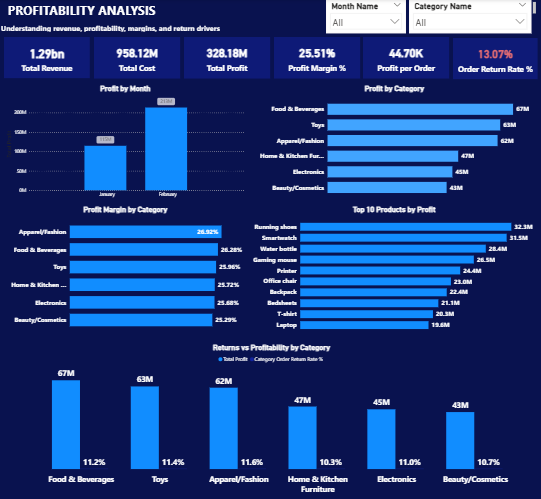

What the dashboard file says about the page in this screenshot:
{"tool":"powerbi","page":{"name":"Profitability Analysis","canvas":[1410,1300],"ordinal":1},"visuals":[{"type":"textbox","box":[0,1.3,1400.6,57.7],"z":0},{"type":"textbox","box":[0,56.6,1500,32.7],"z":1000},{"type":"card","fields":{"Values":["Measures (2).Total Revenue"]},"box":[12.9,100,222.9,107.1],"z":2000},{"type":"card","fields":{"Values":["Measures (2).Total Cost"]},"box":[246.2,100,223.8,107.5],"z":3000},{"type":"card","fields":{"Values":["Measures (2).Total Profit"]},"box":[480,100,223.8,107.5],"z":4000},{"type":"card","fields":{"Values":["Measures (2).Profit Margin%"]},"box":[713.8,100,223.8,107.5],"z":5000},{"type":"card","fields":{"Values":["Measures (2).Profit per Order"]},"box":[947.5,100,223.8,107.5],"z":6000},{"type":"card","fields":{"Values":["Measures (2).Return Rate"]},"box":[1180.6,100.6,220,107.3],"z":7000},{"type":"lineClusteredColumnComboChart","title":"Profit by Month","fields":{"Category":["DimDate.Month Name"],"Y":["Measures (2).Total Profit"]},"box":[13.8,220,631.2,306.2],"z":8000},{"type":"clusteredBarChart","title":"Profit by Category","fields":{"Category":["DimCategory.category_name"],"Y":["Measures (2).Total Profit"]},"box":[654.7,220,745.9,305.9],"z":9000},{"type":"clusteredBarChart","title":"Profit Margin by Category","fields":{"Category":["DimCategory.category_name"],"Y":["Measures (2).Profit Margin%"]},"box":[14.3,535.7,631.4,340],"z":10000},{"type":"clusteredBarChart","title":"Top 10 Products by Profit","fields":{"Category":["DimProduct.product_name"],"Y":["Measures (2).Total Profit"]},"box":[656,536.6,744.6,339.4],"z":11000},{"type":"slicer","fields":{"Values":["DimDate.Month Name"]},"box":[850.6,0,207.9,88.5],"z":12000},{"type":"slicer","fields":{"Values":["DimCategory.category_name"]},"box":[1065.2,0,318,88.5],"z":13000},{"type":"clusteredColumnChart","title":"Returns vs Profitability by Category","fields":{"Category":["DimCategory.category_name"],"Y":["Measures (2).Total Profit","Measures (2).Category Order Return Rate %"]},"box":[14.8,893.5,1385.9,401.1],"z":14000}]}

Visuals, with their boxes in screenshot pixels (x1, y1, x2, y2), scaled from the page's 1410x1300 canvas onto the 541x499 screenshot:
textbox: bbox(0, 0, 537, 23)
textbox: bbox(0, 22, 540, 34)
card - Measures (2).Total Revenue: bbox(5, 38, 90, 79)
card - Measures (2).Total Cost: bbox(94, 38, 180, 80)
card - Measures (2).Total Profit: bbox(184, 38, 270, 80)
card - Measures (2).Profit Margin%: bbox(274, 38, 360, 80)
card - Measures (2).Profit per Order: bbox(364, 38, 449, 80)
card - Measures (2).Return Rate: bbox(453, 39, 537, 80)
"Profit by Month" lineClusteredColumnComboChart: bbox(5, 84, 247, 202)
"Profit by Category" clusteredBarChart: bbox(251, 84, 537, 202)
"Profit Margin by Category" clusteredBarChart: bbox(5, 206, 248, 336)
"Top 10 Products by Profit" clusteredBarChart: bbox(252, 206, 537, 336)
slicer - DimDate.Month Name: bbox(326, 0, 406, 34)
slicer - DimCategory.category_name: bbox(409, 0, 531, 34)
"Returns vs Profitability by Category" clusteredColumnChart: bbox(6, 343, 537, 497)
